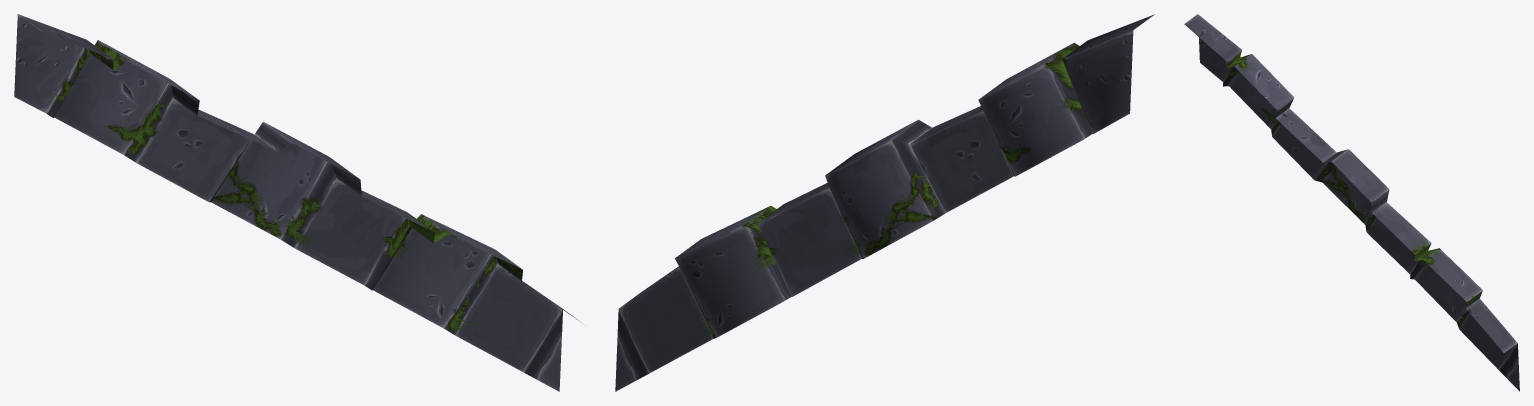
The model's file is MOD_Stairs_01_WallTrim_R_2.fbx.
The picture shows the model from 3 angles, left to right: view 1: azimuth 30°, elevation 25°; view 2: azimuth 150°, elevation 25°; view 3: azimuth 330°, elevation 25°; orthographic projection. The views are drawn at different scales.
Parts seen in each view (by area): view 1: MOD_Stairs_01_WallTrim_R_2; view 2: MOD_Stairs_01_WallTrim_R_2; view 3: MOD_Stairs_01_WallTrim_R_2.
Part boxes in pixels (box(x1,y1,x2,y2)): MOD_Stairs_01_WallTrim_R_2: box(14, 14, 582, 391); MOD_Stairs_01_WallTrim_R_2: box(615, 14, 1154, 391); MOD_Stairs_01_WallTrim_R_2: box(1184, 14, 1519, 391).
Size of what is drawn, in the model's own units: 400 by 360 by 43.98.
